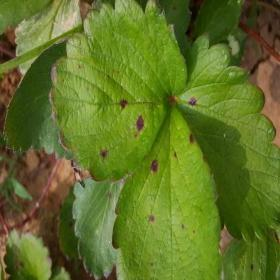Leaf Spot: (48, 0, 188, 186), (172, 32, 279, 246), (112, 102, 222, 279), (72, 176, 122, 279), (222, 229, 279, 279), (3, 228, 53, 279), (160, 0, 192, 51), (57, 186, 78, 261)
